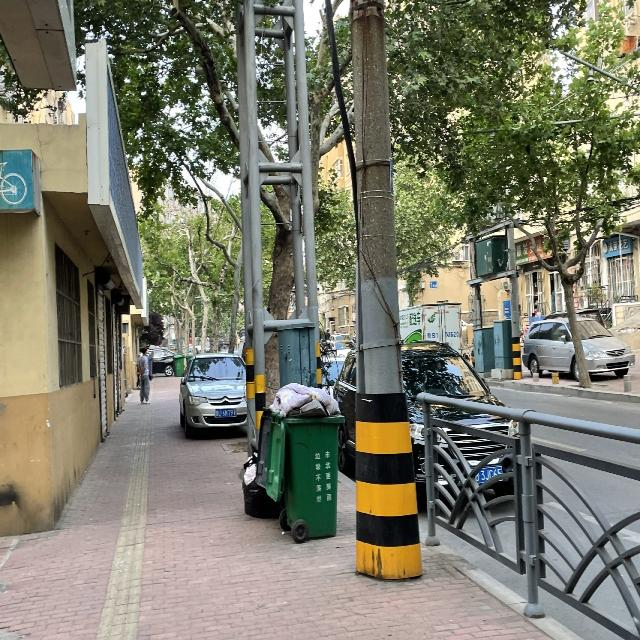garbage: (241, 450, 283, 517)
garbage_bin: (172, 353, 184, 376)
overflow: (254, 382, 344, 541)
